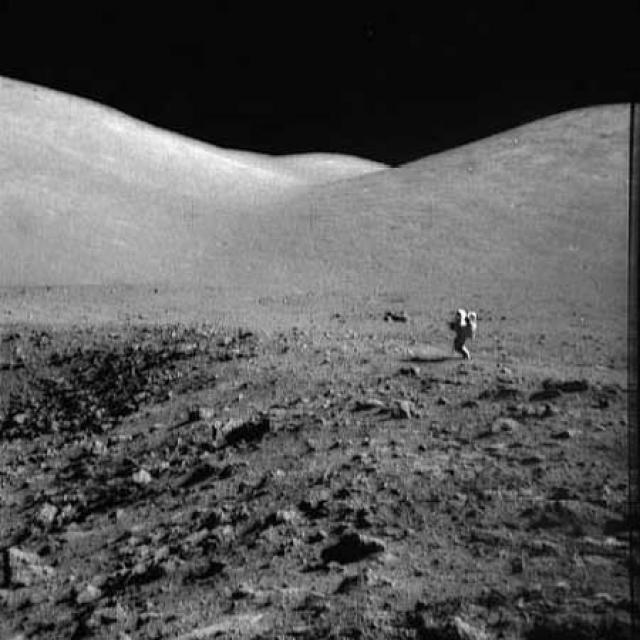artifact: (440, 299, 488, 356)
rock: (4, 537, 56, 593), (340, 519, 390, 560), (35, 492, 75, 530), (383, 394, 430, 421), (546, 372, 589, 398), (489, 413, 520, 441), (494, 361, 522, 391), (72, 580, 102, 608)
